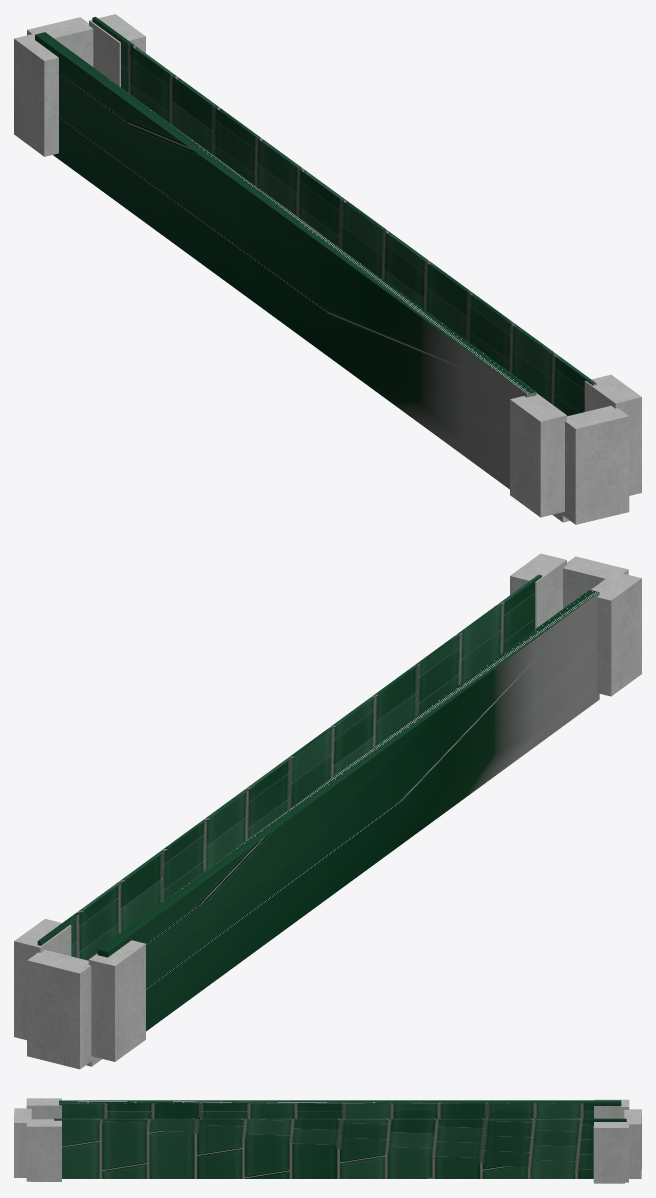
The model's file is Corridor.glb.
The picture shows the model from 3 angles, top to bottom: view 1: azimuth 30°, elevation 25°; view 2: azimuth 150°, elevation 25°; view 3: azimuth 270°, elevation 25°; orthographic projection. The views are drawn at different scales.
Parts seen in each view (by area): view 1: wall2, wall1, elev3, elev1, elev5, elev2, elev6, elev4; view 2: wall2, wall1, elev4, elev5, elev1, elev6, elev2, elev3; view 3: wall1, wall2, elev2, elev6, elev3, elev4, elev1, elev5.
Boxes of the visible parts, x1,y1,x2,y2 form: wall2: (35, 32, 536, 489); wall1: (92, 17, 596, 416); elev3: (560, 405, 629, 524); elev1: (510, 393, 566, 517); elev5: (14, 32, 58, 156); elev2: (584, 374, 641, 495); elev6: (89, 14, 145, 87); elev4: (27, 17, 93, 66); wall2: (97, 589, 599, 1031); wall1: (37, 574, 541, 960); elev4: (27, 950, 95, 1069); elev5: (88, 940, 145, 1061); elev1: (591, 571, 641, 696); elev6: (14, 919, 71, 1040); elev2: (510, 553, 566, 628); elev3: (563, 556, 628, 608); wall1: (54, 1118, 626, 1178); wall2: (59, 1100, 621, 1118); elev2: (26, 1119, 61, 1181); elev6: (593, 1120, 628, 1182); elev3: (14, 1108, 31, 1177); elev4: (624, 1109, 641, 1178); elev1: (26, 1098, 61, 1119); elev5: (594, 1099, 629, 1118).
Bounding box in the file's own units: 26.78 × 29.06 × 250.
3 materials, 3 textured.
